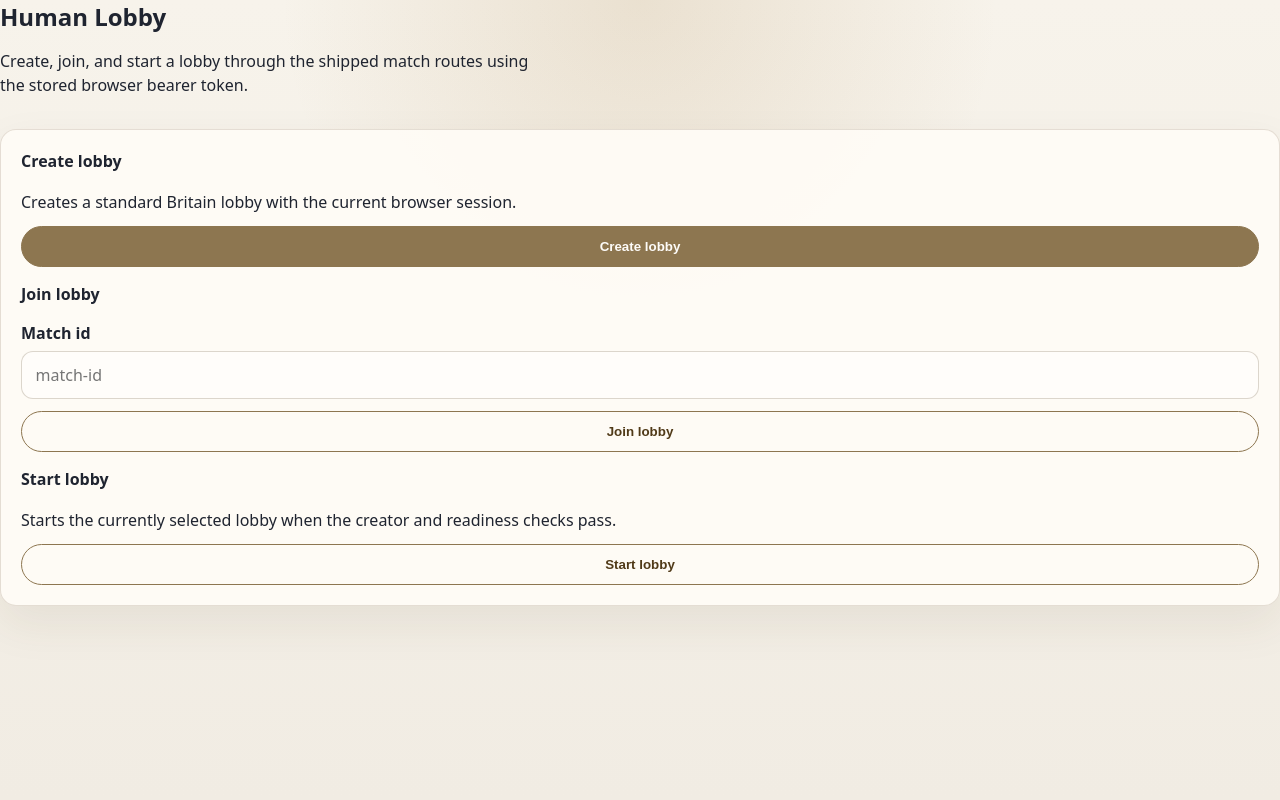
Test: HumanLobbyPage › surfaces structured errors without inventing optimistic lobby state
The width and height of the screenshot is (1280, 800).
Click the button "Create lobby". click: (640,246)
box: left=21, top=226, right=1259, bottom=267
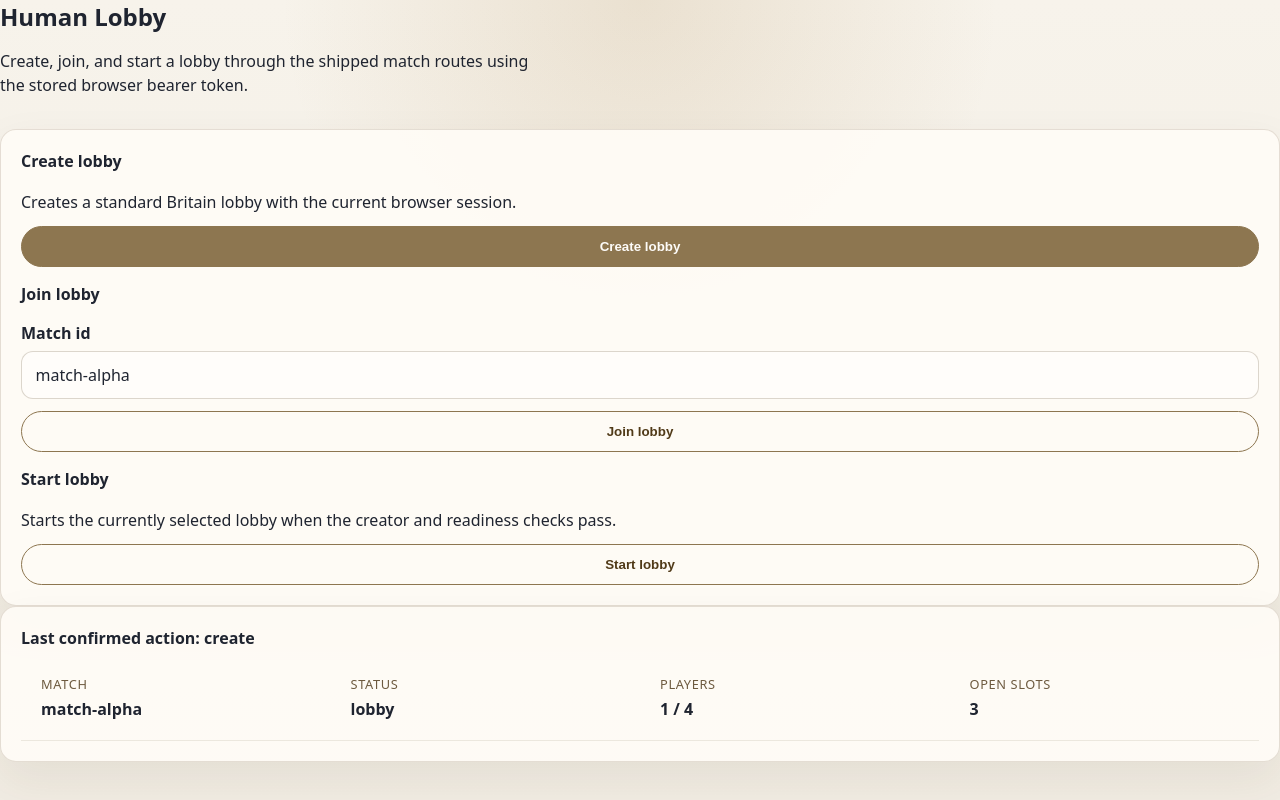
Expected: the text "Last confirmed action: create" is shown, left=21, top=627, right=255, bottom=649
Click the button "Start lobby". click: (640,564)
box: left=21, top=544, right=1259, bottom=585
(page scrolled)
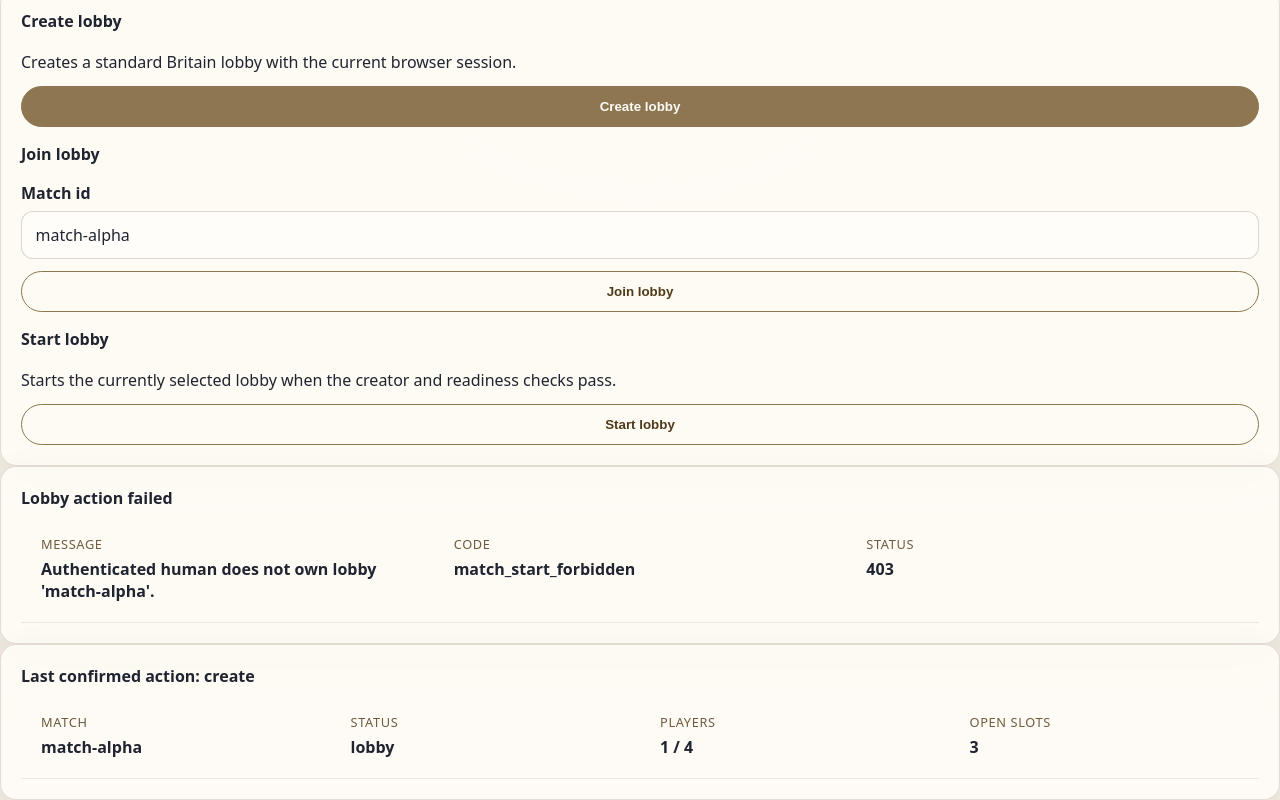
Expected: the text "Authenticated human does not own lobby 'match-alpha'." is shown, left=41, top=558, right=414, bottom=602
Expected: the text "match_start_forbidden" is shown, left=454, top=558, right=635, bottom=580
Expected: the text "403" is shown, left=866, top=558, right=894, bottom=580
